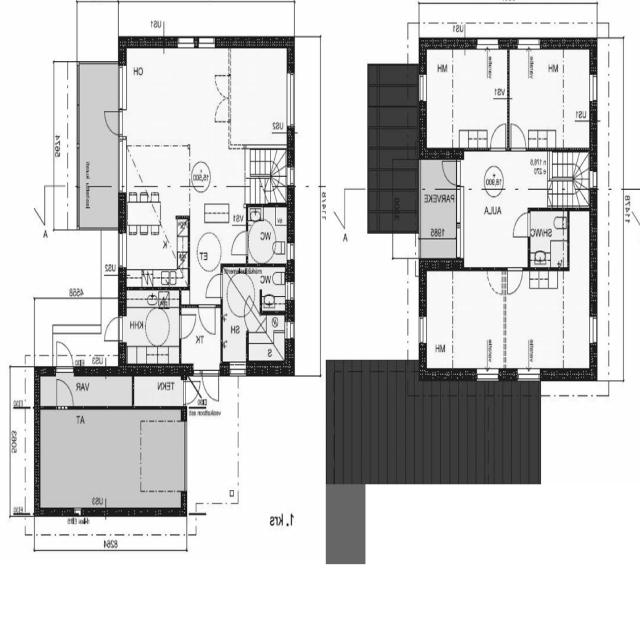door: (123, 41, 230, 186), (505, 32, 591, 144), (504, 268, 590, 371), (424, 45, 509, 148), (424, 272, 505, 373), (121, 195, 186, 285), (123, 291, 178, 363), (38, 374, 132, 410), (248, 208, 289, 264), (528, 212, 567, 266), (134, 379, 180, 414), (262, 272, 286, 310)
window: (170, 32, 215, 52), (470, 32, 505, 53), (286, 70, 297, 132), (512, 34, 548, 52), (585, 314, 600, 356), (587, 72, 602, 109), (283, 281, 306, 305), (117, 135, 127, 190), (472, 364, 497, 383), (514, 366, 542, 382), (417, 72, 431, 100), (281, 319, 295, 346), (416, 313, 427, 342), (284, 246, 298, 266), (121, 67, 127, 110), (286, 164, 294, 192), (587, 168, 597, 188)
zone: (459, 150, 529, 263), (209, 66, 232, 128), (100, 103, 126, 137), (435, 156, 461, 186), (200, 366, 222, 401), (241, 295, 260, 332), (198, 299, 217, 335), (50, 338, 76, 363), (510, 208, 529, 238), (503, 266, 523, 294), (486, 266, 504, 296), (55, 376, 74, 404), (104, 311, 120, 343), (490, 124, 507, 154), (510, 118, 524, 154), (180, 378, 200, 403), (178, 310, 195, 337), (229, 232, 248, 256), (206, 272, 221, 300)
